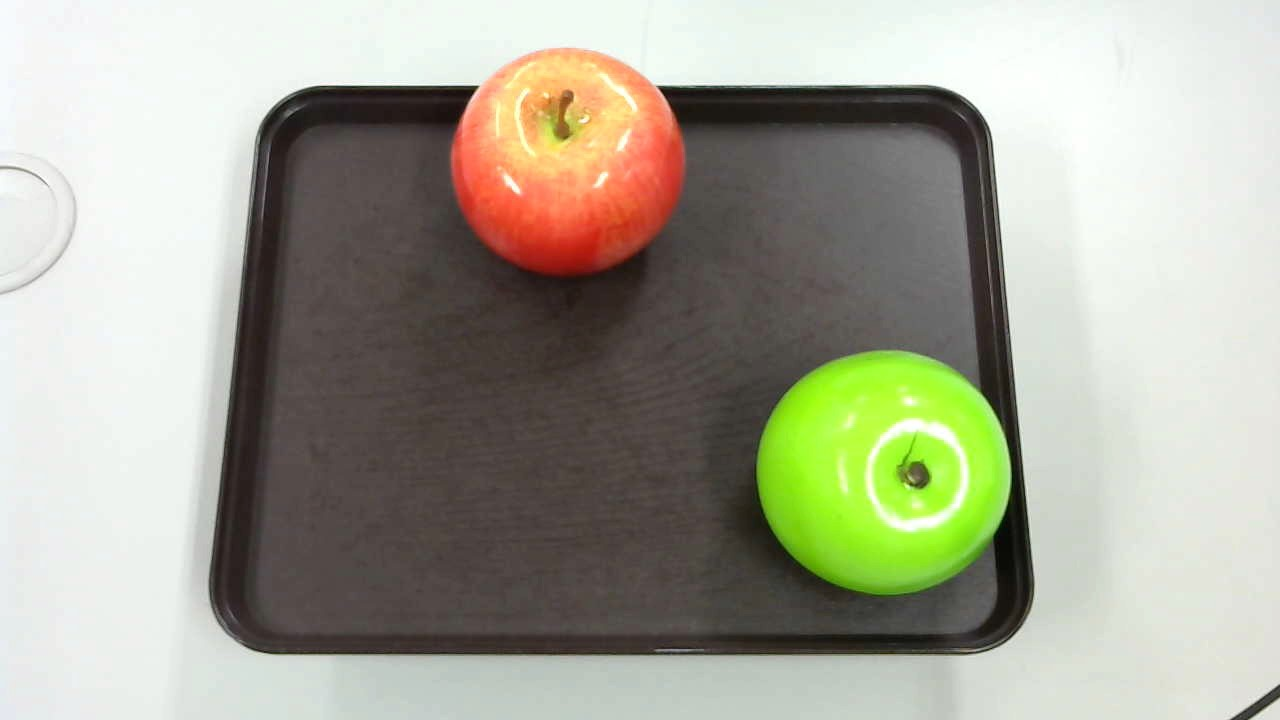green apple: (751, 349, 1009, 607)
red apple: (440, 46, 693, 284)
